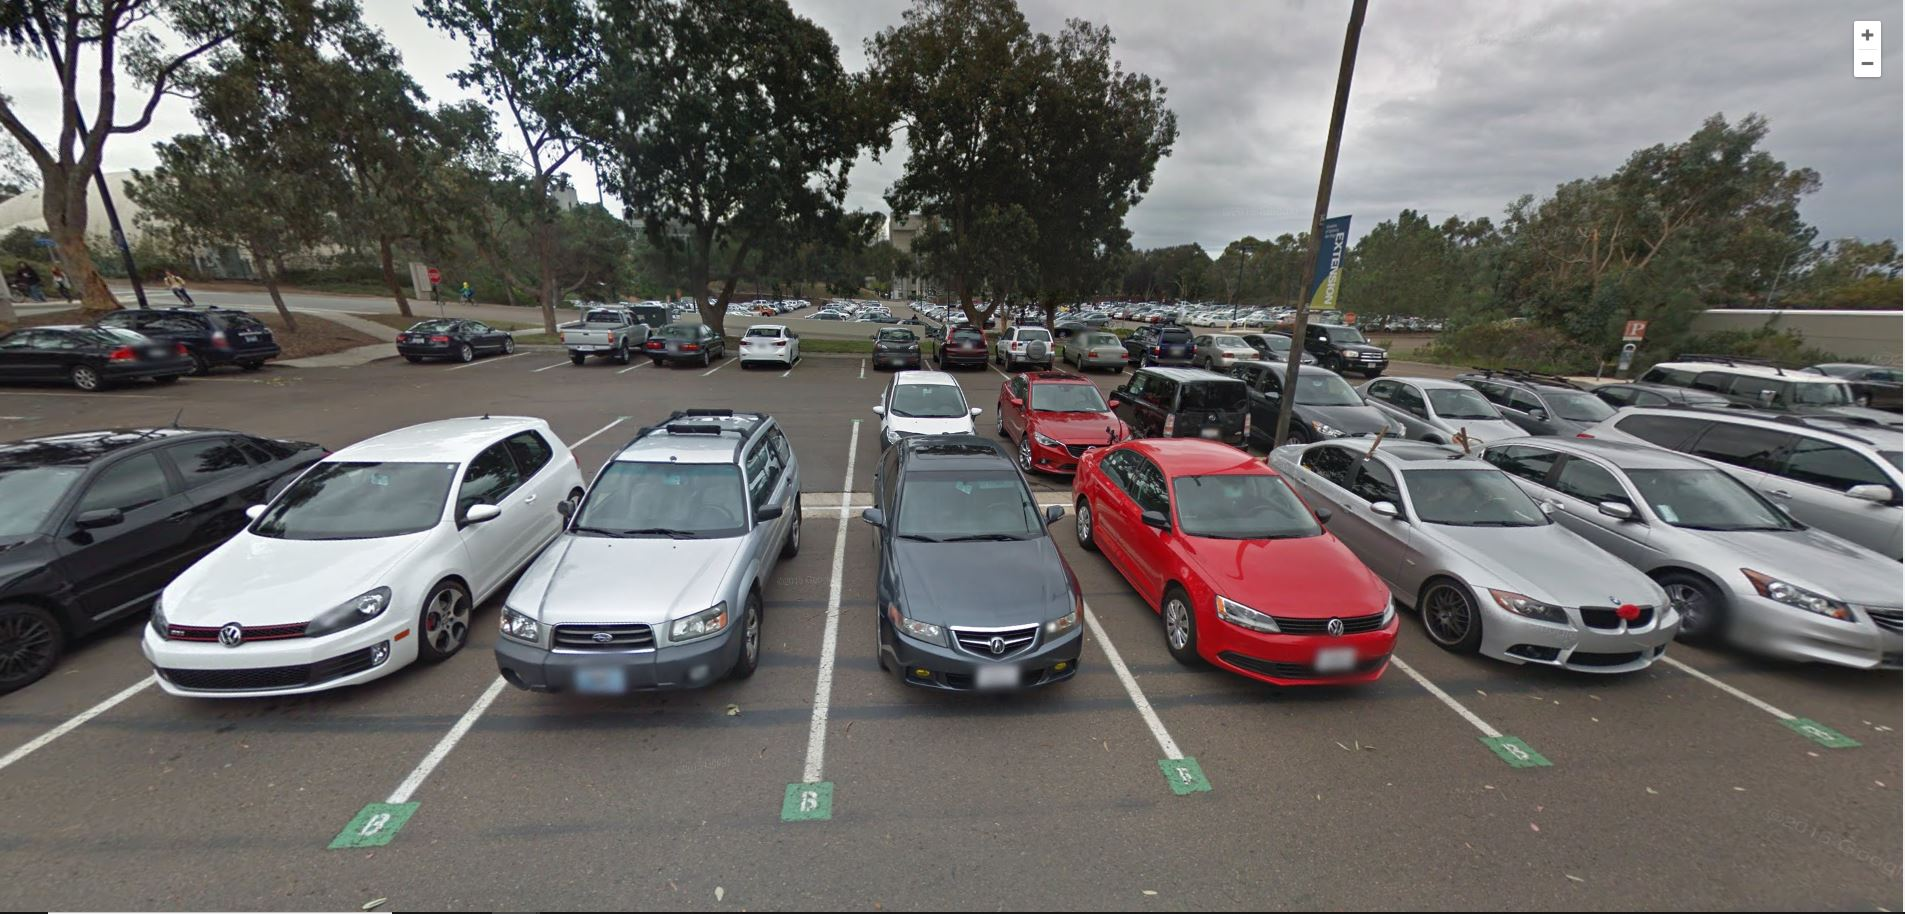car: (139, 410, 600, 696), (1476, 424, 1903, 718), (492, 405, 815, 726), (1272, 438, 1661, 695), (1067, 440, 1394, 692), (871, 435, 1097, 705), (1579, 387, 1905, 574), (988, 362, 1127, 481), (1363, 359, 1543, 447), (1, 320, 186, 406), (1244, 357, 1411, 450), (124, 293, 282, 387), (1106, 363, 1257, 457), (1488, 367, 1645, 448), (863, 368, 991, 455), (552, 292, 631, 371), (1290, 309, 1391, 366), (394, 318, 514, 363), (729, 315, 805, 372), (643, 311, 714, 368), (1199, 321, 1267, 369), (1064, 325, 1129, 366), (1002, 325, 1063, 368), (1129, 328, 1197, 363), (869, 325, 925, 363), (940, 325, 987, 362)
